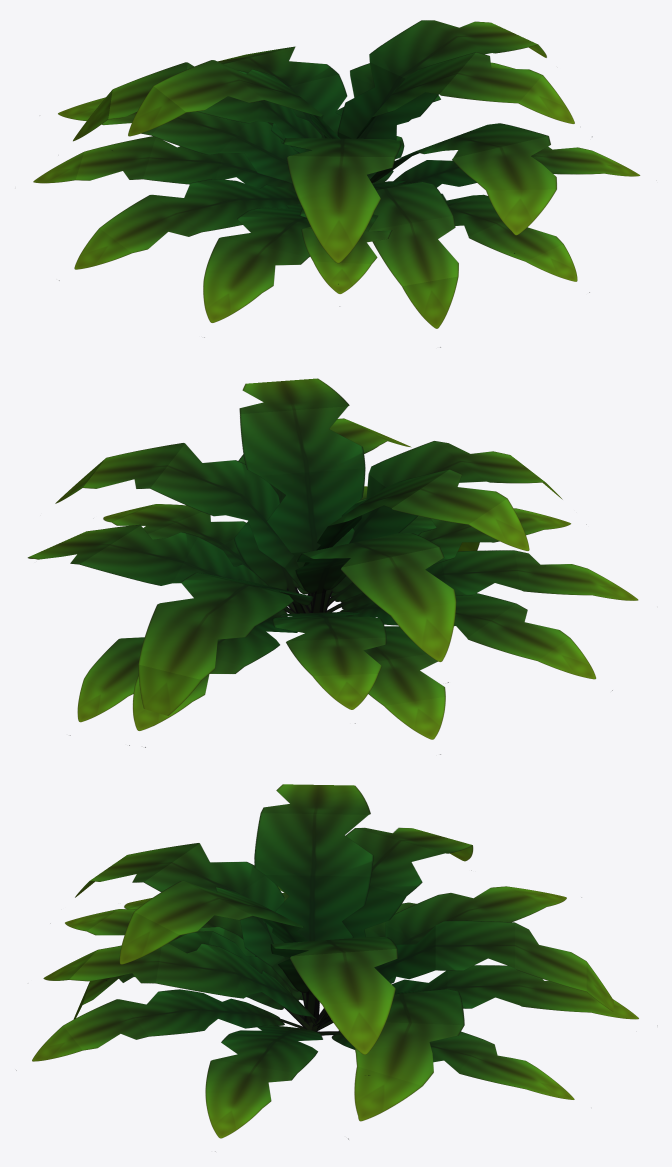
File: SM_Plant_E.glb
The picture shows the model from 3 angles, top to bottom: view 1: azimuth 30°, elevation 25°; view 2: azimuth 150°, elevation 25°; view 3: azimuth 270°, elevation 25°; orthographic projection. The views are drawn at different scales.
Visible parts, largest first — view 1: SM_Plant_E; view 2: SM_Plant_E; view 3: SM_Plant_E.
Part boxes in pixels (bbox=[...]): SM_Plant_E: bbox=[33, 20, 640, 347]; SM_Plant_E: bbox=[27, 378, 638, 754]; SM_Plant_E: bbox=[16, 784, 638, 1139].
Size of the model in its own units: 2.6 by 0.8703 by 2.59.
1 material, 1 textured.
